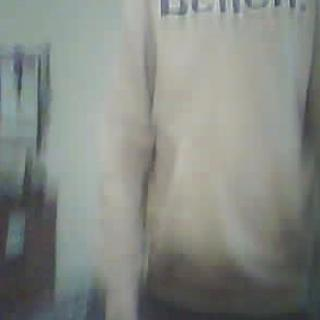Yellow Hoodie: (116, 0, 320, 308)
